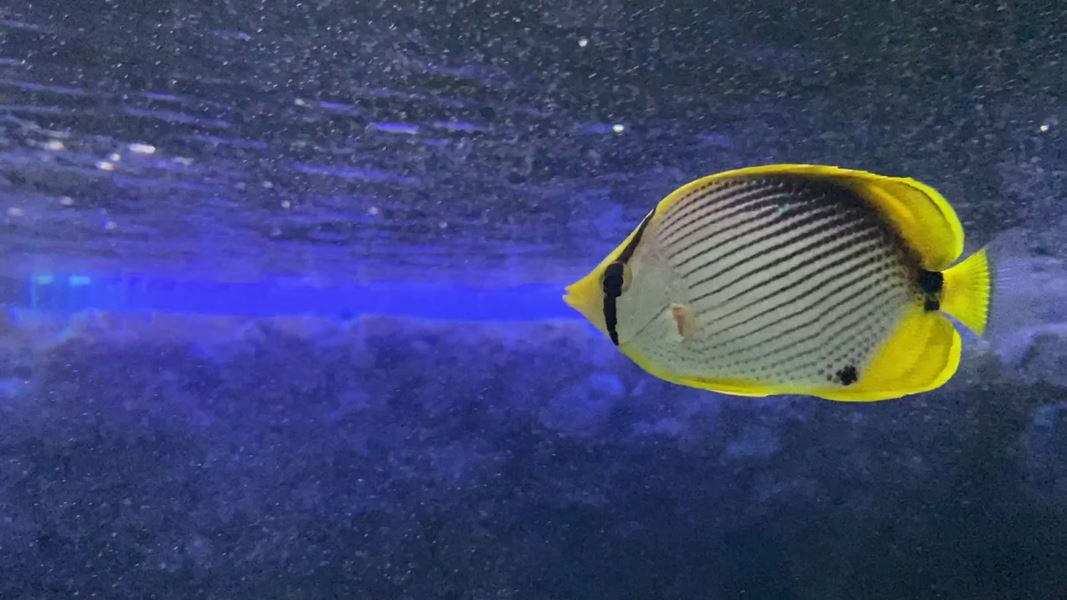Black-backed butterflyfish: (548, 151, 1051, 418)
